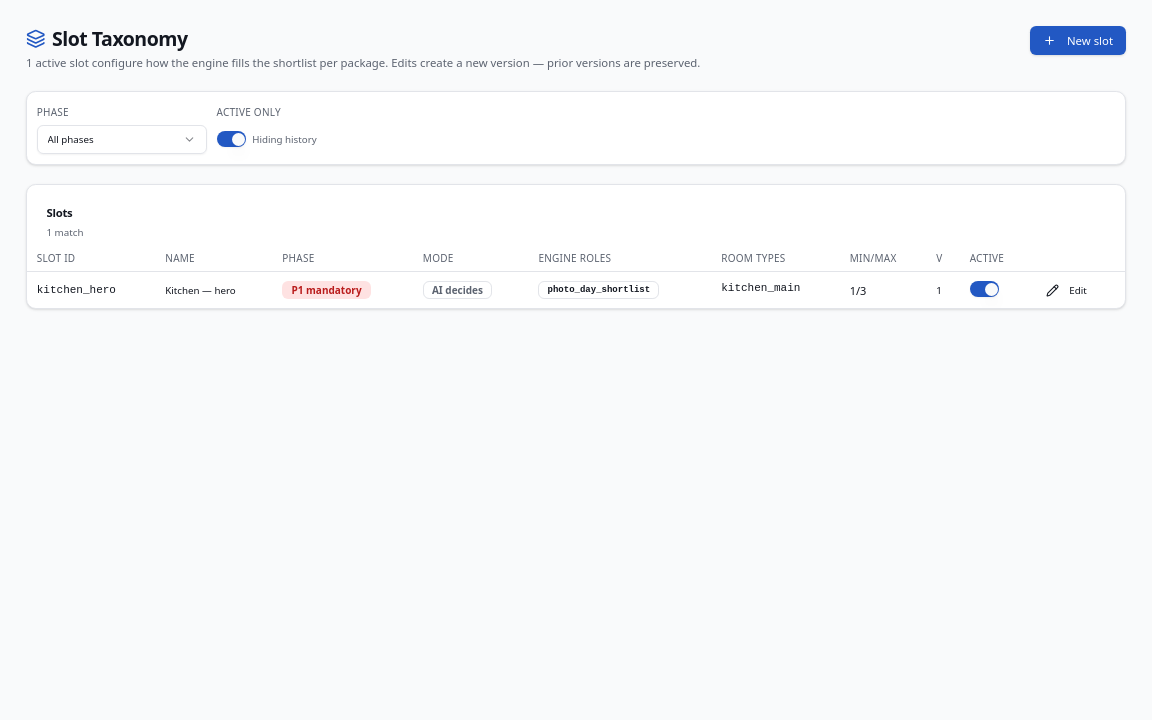
Test case: SettingsShortlistingSlots — W11.6.22b mode toggle › toggling back to 'AI decides' hides the positions editor
Click the button "Edit" at (1067, 290), box [1040,279,1093,301]
(page scrolled)
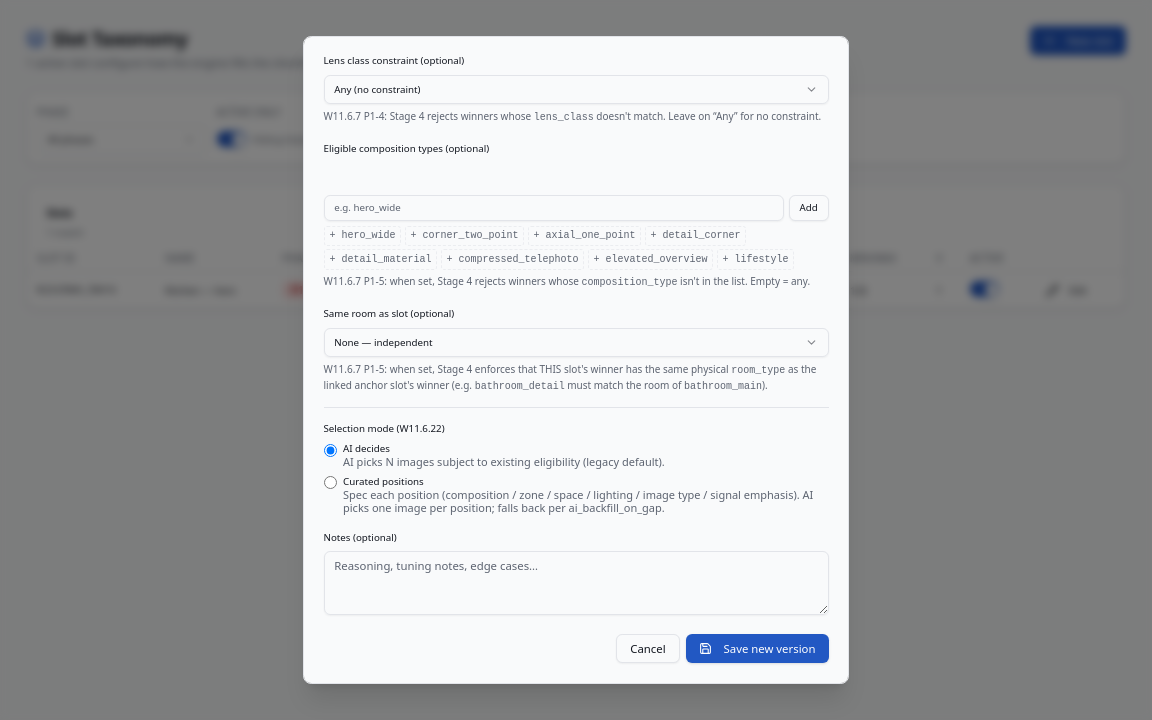
Click the radio button with test id "mode-curated" at (330, 483), box [324,476,336,489]
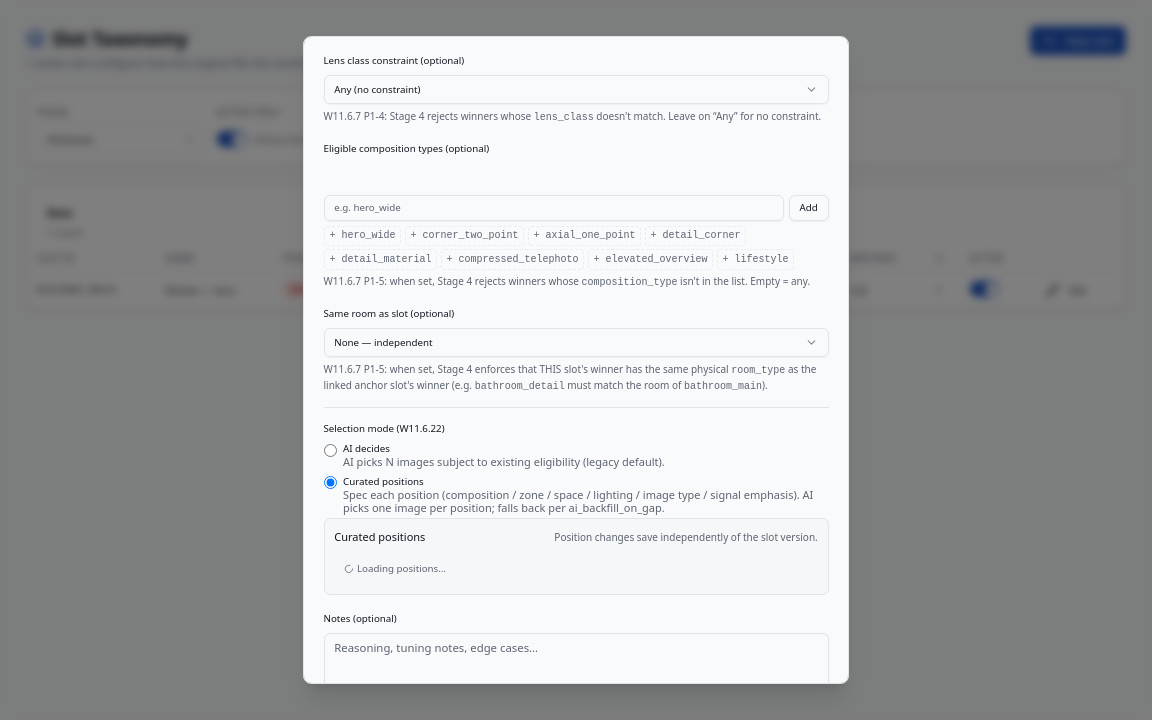
expect the element with test id "curated-positions-section" is shown: met, box [324,518,828,595]
Click the radio button with test id "mode-ai-decides" at (330, 450), box [324,444,336,457]
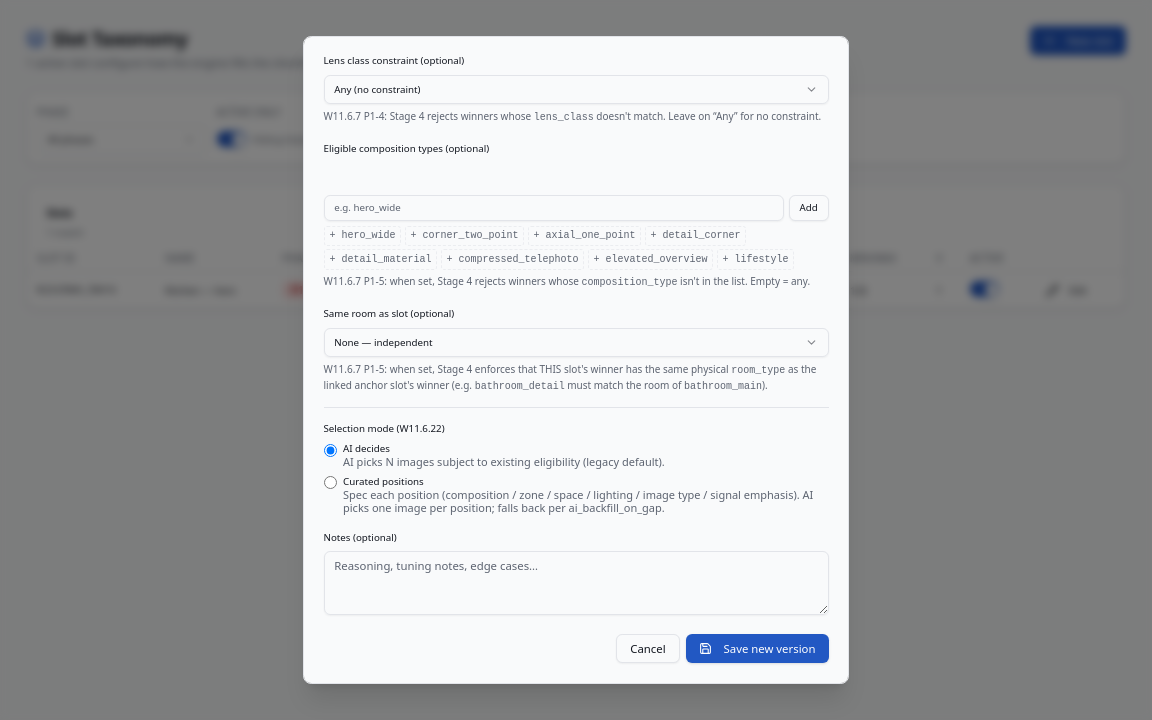
expect the element with test id "curated-positions-section" is gone: met
